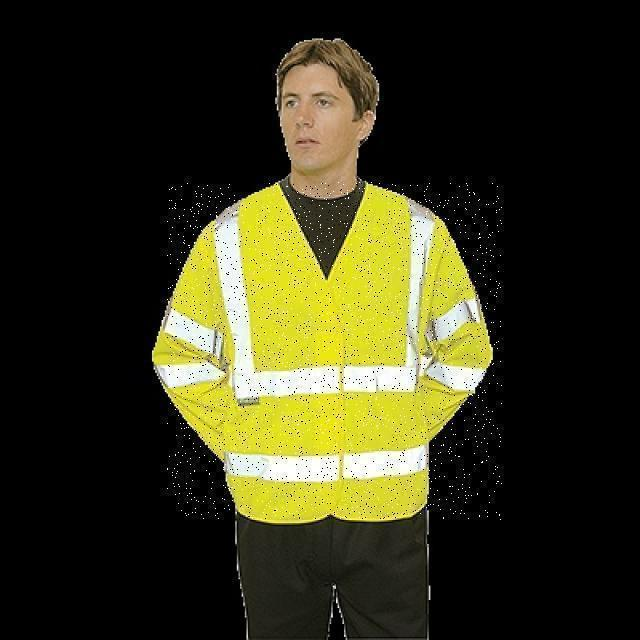safety_vest: (167, 182, 502, 520)
